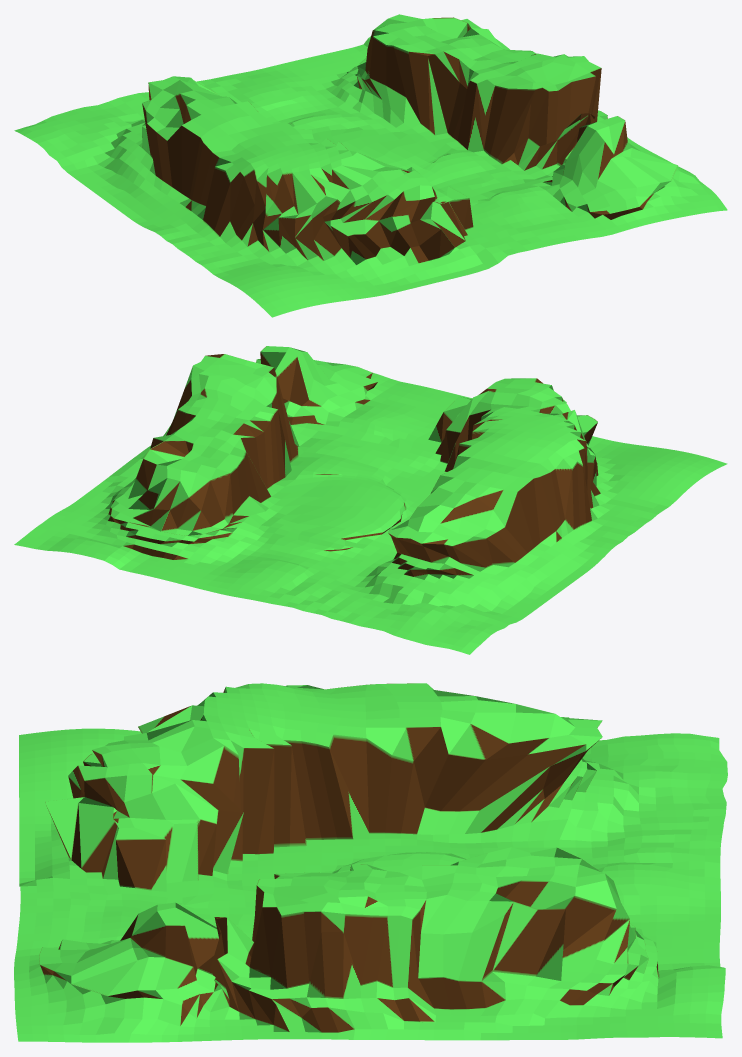
The model's file is terrain.fbx.
The picture shows the model from 3 angles, top to bottom: view 1: azimuth 30°, elevation 25°; view 2: azimuth 150°, elevation 25°; view 3: azimuth 270°, elevation 25°; orthographic projection. The views are drawn at different scales.
Parts seen in each view (by area): view 1: Plane; view 2: Plane; view 3: Plane.
Part boxes in pixels (bbox=[...]): Plane: bbox=[14, 14, 727, 317]; Plane: bbox=[14, 346, 727, 654]; Plane: bbox=[14, 683, 727, 1042].
Bounding box in the file's own units: 4091 × 690 × 4020.
